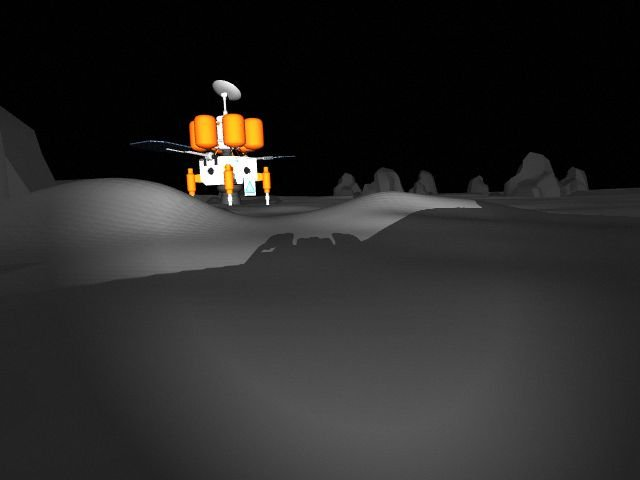homebase: (130, 76, 303, 208)
